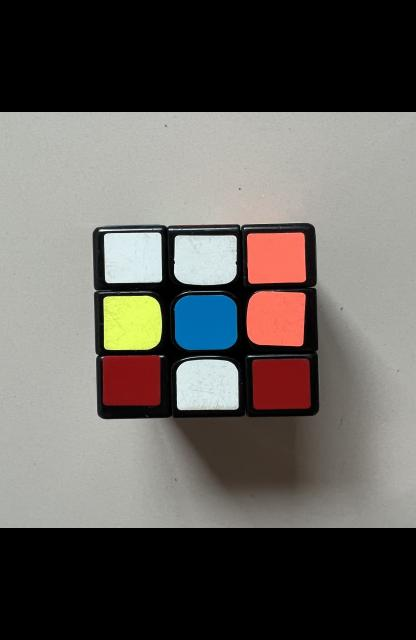Blue: (173, 295, 237, 350)
Orange: (245, 291, 306, 346), (245, 232, 306, 284)
Red: (250, 359, 310, 410), (102, 356, 159, 406)
White: (176, 359, 238, 410), (173, 236, 236, 285), (103, 232, 162, 283)
Yellow: (102, 295, 162, 350)
